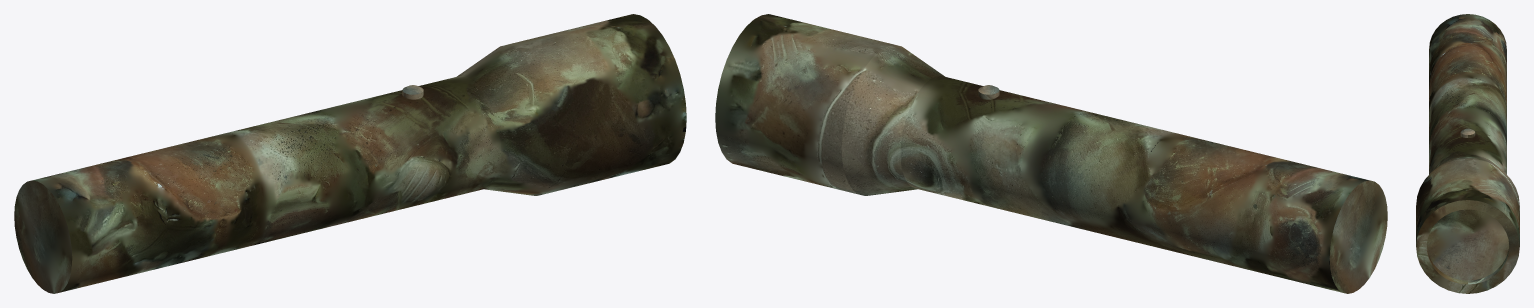
The model's file is torchlight.obj.
The picture shows the model from 3 angles, left to right: view 1: azimuth 30°, elevation 25°; view 2: azimuth 150°, elevation 25°; view 3: azimuth 270°, elevation 25°; orthographic projection. The views are drawn at different scales.
Parts seen in each view (by area): view 1: Flashlight_low; view 2: Flashlight_low; view 3: Flashlight_low, Button_low.
Part boxes in pixels (bbox=[...]): Flashlight_low: bbox=[14, 14, 686, 293]; Flashlight_low: bbox=[715, 14, 1387, 293]; Flashlight_low: bbox=[1416, 14, 1519, 293]; Button_low: bbox=[1460, 128, 1475, 137].
Size of the model in its own units: 0.02 by 0.00443 by 0.00443.
